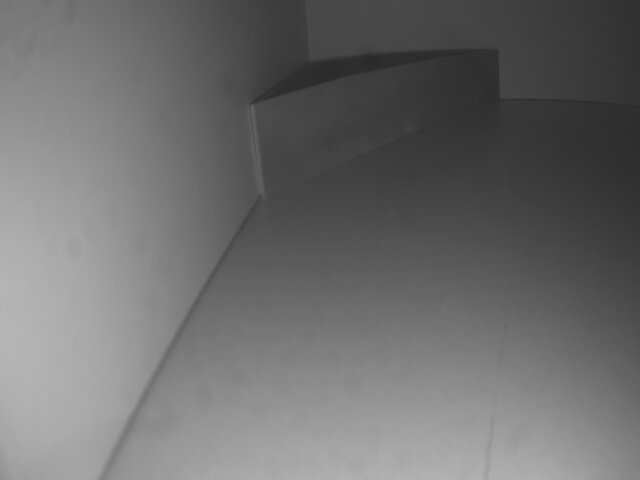Green: (253, 46, 498, 200)
